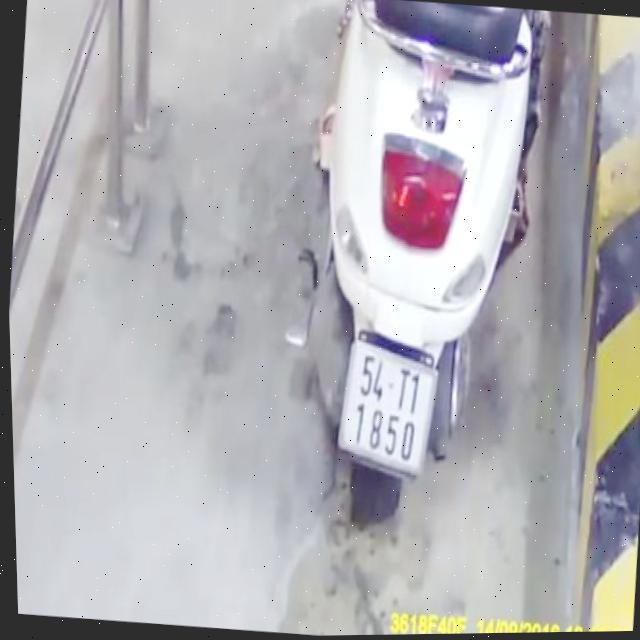motorcycle: (278, 0, 560, 561)
plate: (324, 331, 450, 493)
